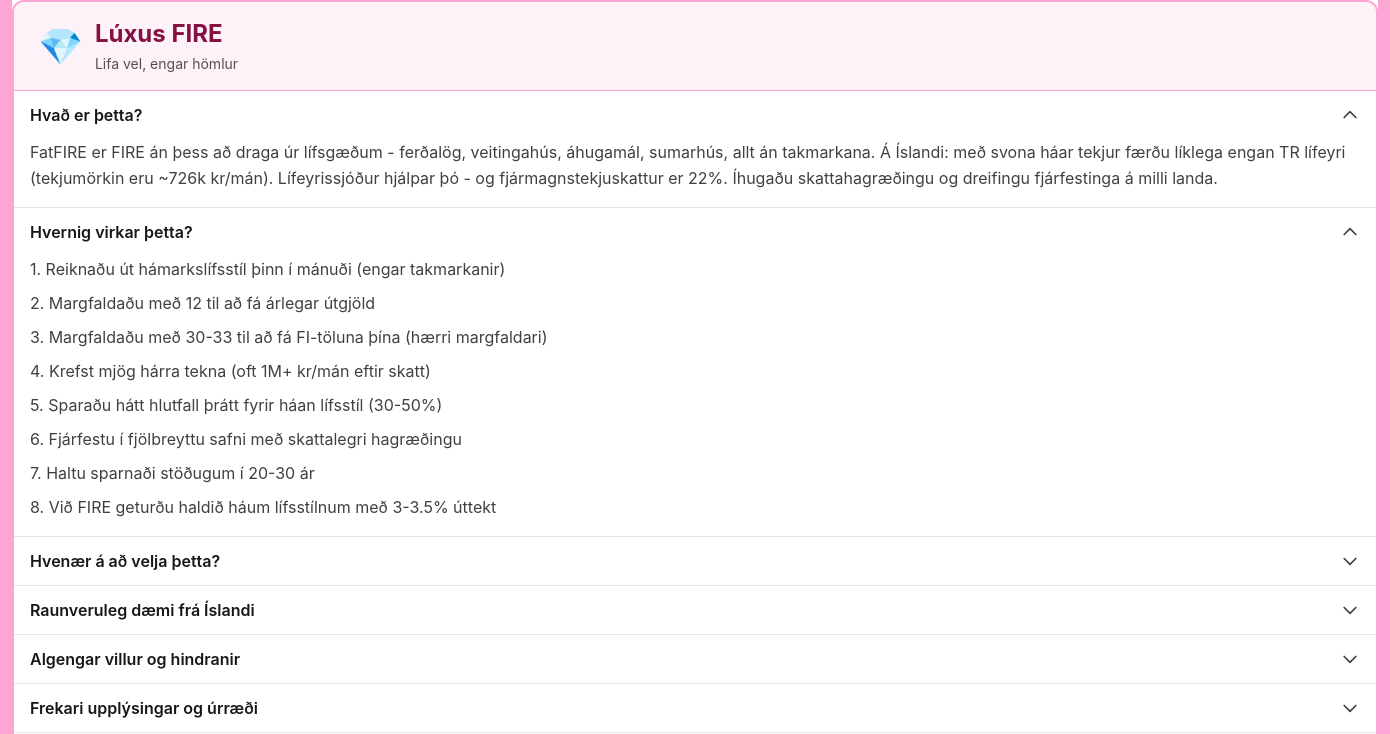
Test case: DetailedExplanation › renders real-world Icelandic examples
This screenshot has width=1390, height=734.
Note: Open examples section
Click the button "Raunveruleg dæmi frá Íslandi": coordinates (142, 610) [14,586,1376,634]
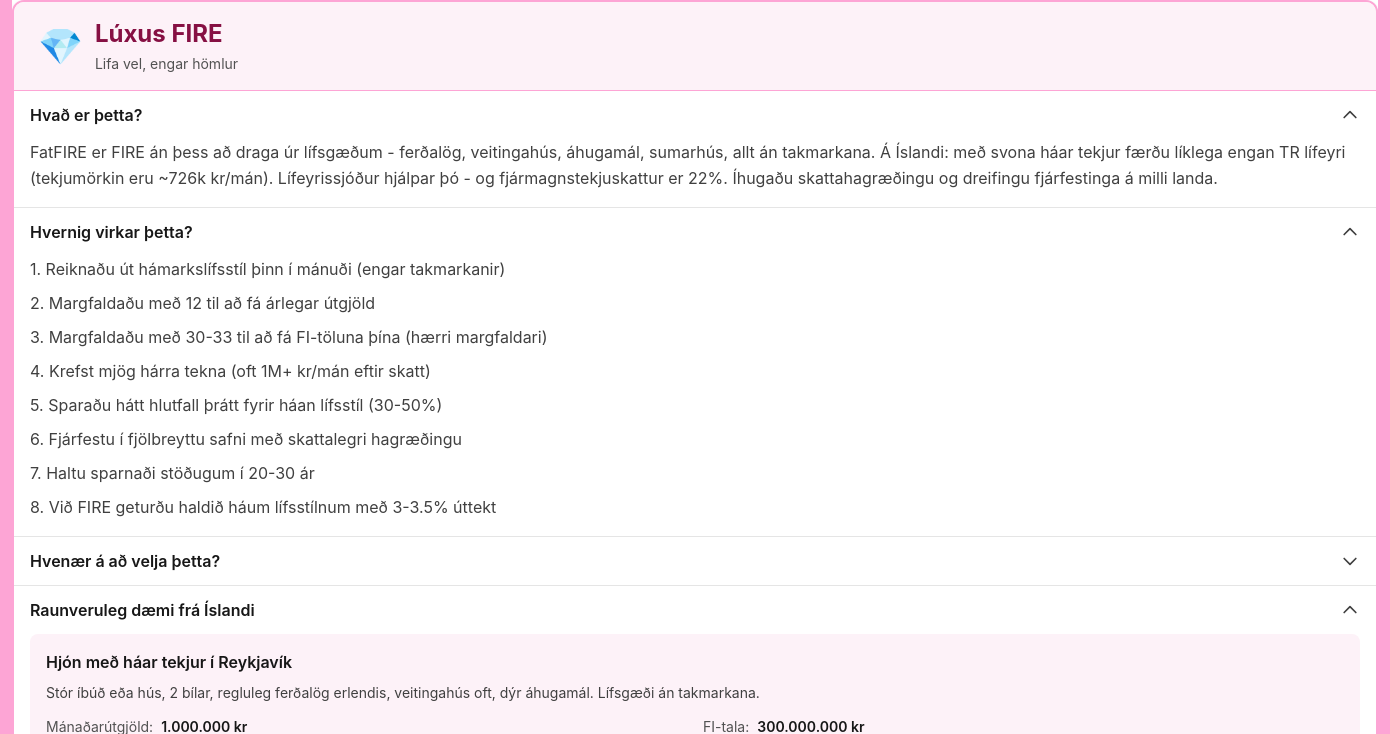
Check: the heading "Hjón með háar tekjur í Reykjavík" is shown, box [46,652,292,672]
